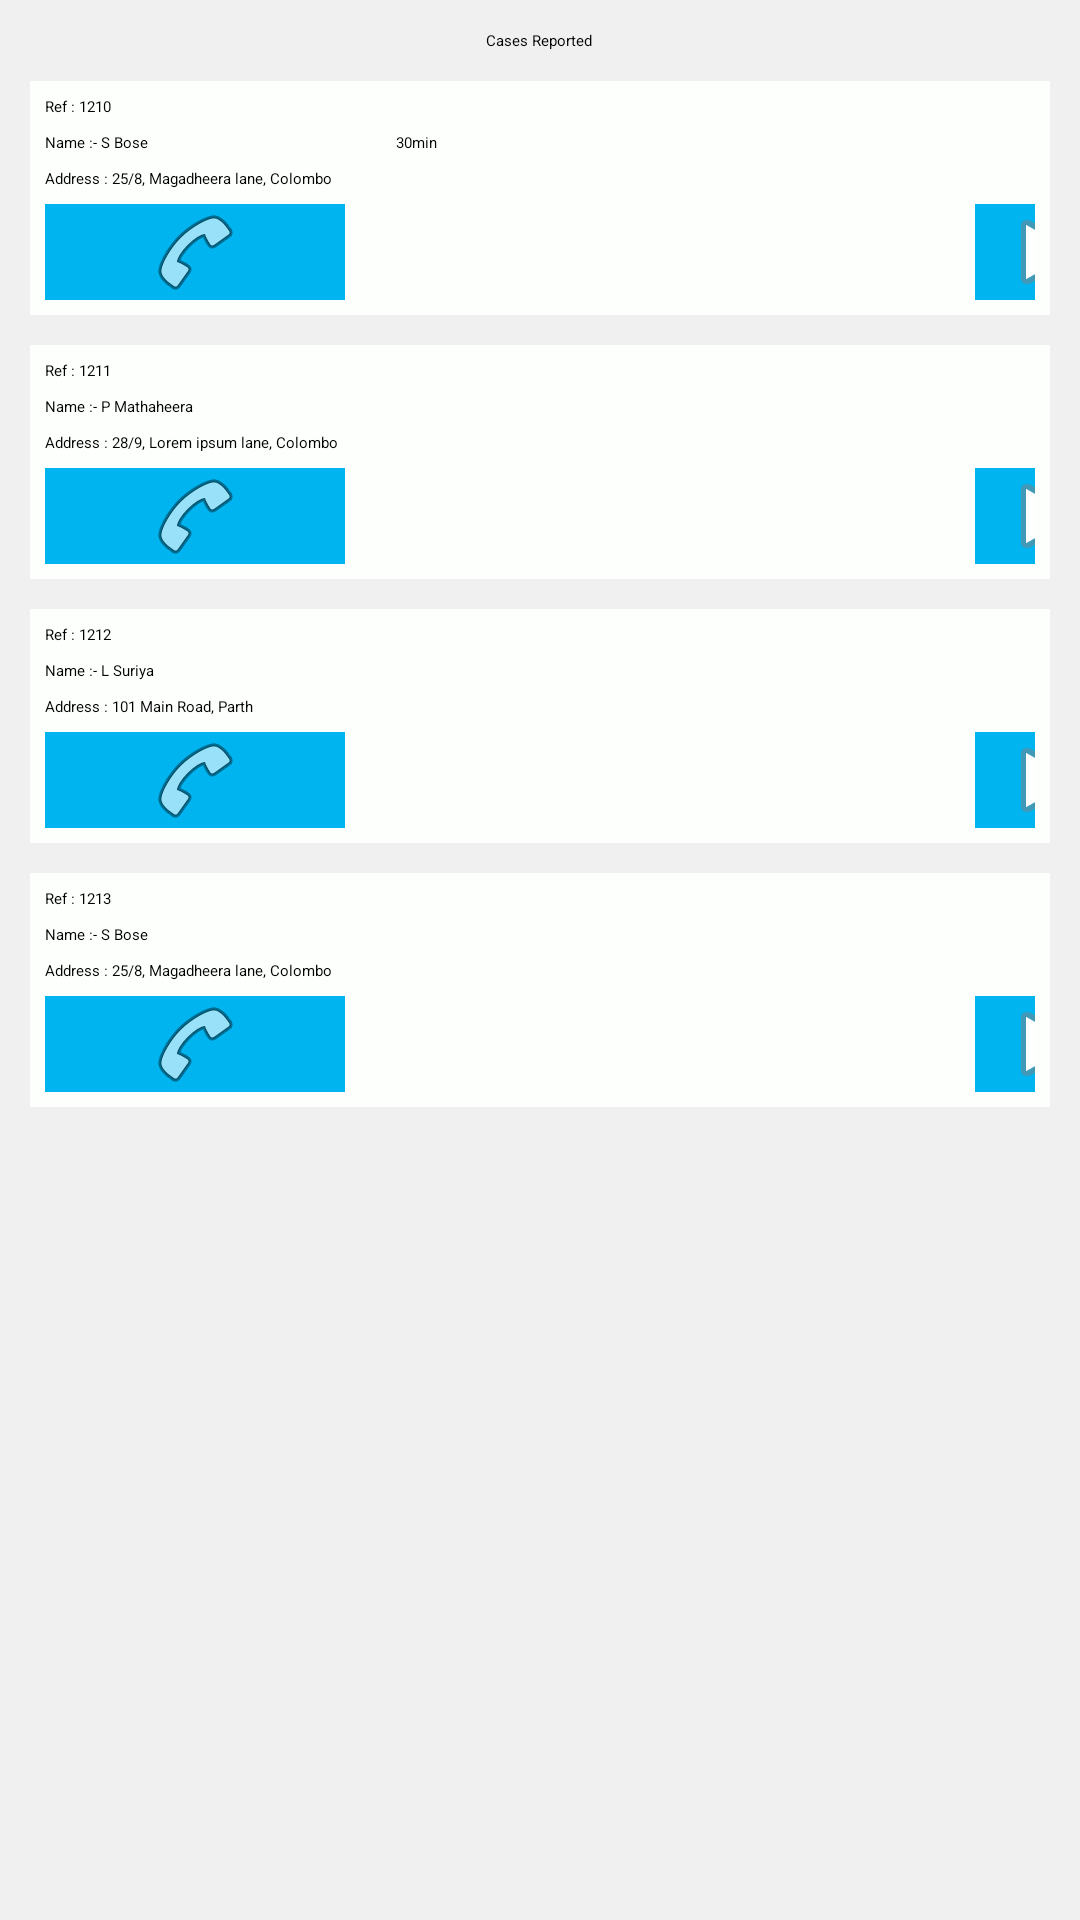

Named icons in this screenshot (1080 x 1920) and their bounding boxes, (left=x1, top=y1, right=x2, bottom=y2):
call: (left=45, top=204, right=345, bottom=300), (left=45, top=468, right=345, bottom=564), (left=45, top=732, right=345, bottom=828), (left=45, top=996, right=345, bottom=1092)
